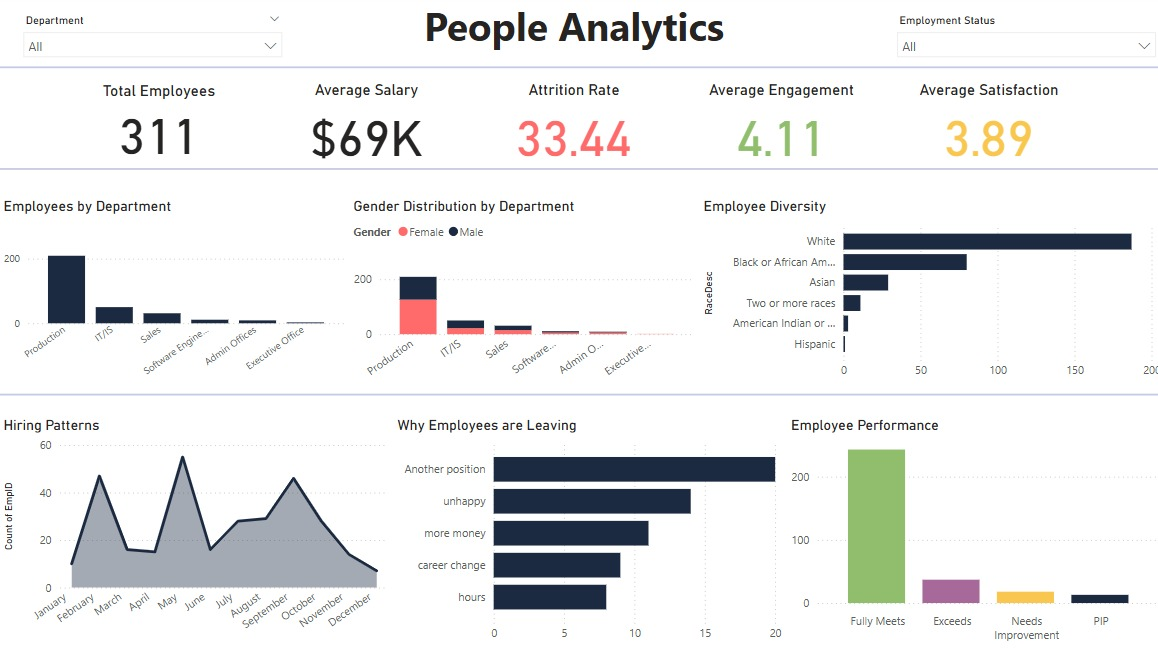

The dashboard page shown, as its layout file describes it:
{"tool":"powerbi","page":{"name":"Page 1","canvas":[1280,720],"ordinal":0},"visuals":[{"type":"card","title":"Total Employees","fields":{"Values":["Count(HRDataset_v14.EmpID)"]},"box":[80,96,192,96],"z":0},{"type":"textbox","box":[448,0,368,80],"z":1000},{"type":"card","title":"Average Salary","fields":{"Values":["Avg(HRDataset_v14.Salary)"]},"box":[306.7,94.9,192,96],"z":2000},{"type":"card","title":"Attrition Rate","fields":{"Values":["HRDataset_v14.Attrition Rate (%)"]},"box":[534.7,94.9,192,96],"z":3000},{"type":"card","title":"Average Engagement","fields":{"Values":["Avg(HRDataset_v14.EngagementSurvey)"]},"box":[762.7,94.9,192,96],"z":4000},{"type":"card","title":"Average Satisfaction","fields":{"Values":["Avg(HRDataset_v14.EmpSatisfaction)"]},"box":[990.7,94.9,192,96],"z":5000},{"type":"clusteredColumnChart","title":"Employees by Department","fields":{"Category":["HRDataset_v14.Department"],"Y":["CountNonNull(HRDataset_v14.EmpID)"]},"box":[0,224,384,208],"z":6000},{"type":"columnChart","title":"Gender Distribution by Department","fields":{"Category":["HRDataset_v14.Department"],"Series":["HRDataset_v14.Gender"],"Y":["CountNonNull(HRDataset_v14.EmpID)"]},"box":[384,224,384,208],"z":7000},{"type":"barChart","title":"Employee Diversity","fields":{"Category":["HRDataset_v14.RaceDesc"],"Y":["CountNonNull(HRDataset_v14.EmpID)"]},"box":[768,224,512,208],"z":8000},{"type":"stackedAreaChart","title":"Hiring Patterns","fields":{"Y":["CountNonNull(HRDataset_v14.EmpID)"],"Category":["HRDataset_v14.DateofHire.Variation.Date Hierarchy.Month","HRDataset_v14.DateofHire.Variation.Date Hierarchy.Day"]},"box":[0,464,432,256],"z":9000},{"type":"barChart","title":"Why Employees are Leaving","fields":{"Y":["CountNonNull(HRDataset_v14.EmpID)"],"Category":["HRDataset_v14.TermReason"]},"box":[432,464,432,256],"z":10000},{"type":"clusteredColumnChart","title":"Employee Performance","fields":{"Category":["HRDataset_v14.PerformanceScore"],"Y":["Count(HRDataset_v14.EmpID)"]},"box":[864,464,416,256],"z":11000},{"type":"slicer","fields":{"Values":["HRDataset_v14.Department"]},"box":[16,16,304,64],"z":12000},{"type":"slicer","fields":{"Values":["HRDataset_v14.EmploymentStatus"]},"box":[976,16,304,64],"z":13000},{"type":"shape","box":[0,144,1280,96],"z":15000},{"type":"shape","box":[0,416,1280,48],"z":16000},{"type":"shape","box":[0,64,1280,32],"z":17000}]}

Visuals, with their boxes in screenshot pixels (x1, y1, x2, y2), scaled from the page's 1280x720 canvas onto the 1158x649 screenshot:
"Total Employees" card: [left=72, top=87, right=246, bottom=173]
textbox: [left=405, top=0, right=738, bottom=72]
"Average Salary" card: [left=277, top=86, right=451, bottom=172]
"Attrition Rate" card: [left=484, top=86, right=657, bottom=172]
"Average Engagement" card: [left=690, top=86, right=864, bottom=172]
"Average Satisfaction" card: [left=896, top=86, right=1070, bottom=172]
"Employees by Department" clusteredColumnChart: [left=0, top=202, right=347, bottom=389]
"Gender Distribution by Department" columnChart: [left=347, top=202, right=695, bottom=389]
"Employee Diversity" barChart: [left=695, top=202, right=1157, bottom=389]
"Hiring Patterns" stackedAreaChart: [left=0, top=418, right=391, bottom=648]
"Why Employees are Leaving" barChart: [left=391, top=418, right=782, bottom=648]
"Employee Performance" clusteredColumnChart: [left=782, top=418, right=1157, bottom=648]
slicer - HRDataset_v14.Department: [left=14, top=14, right=290, bottom=72]
slicer - HRDataset_v14.EmploymentStatus: [left=883, top=14, right=1157, bottom=72]
shape: [left=0, top=130, right=1157, bottom=216]
shape: [left=0, top=375, right=1157, bottom=418]
shape: [left=0, top=58, right=1157, bottom=87]
